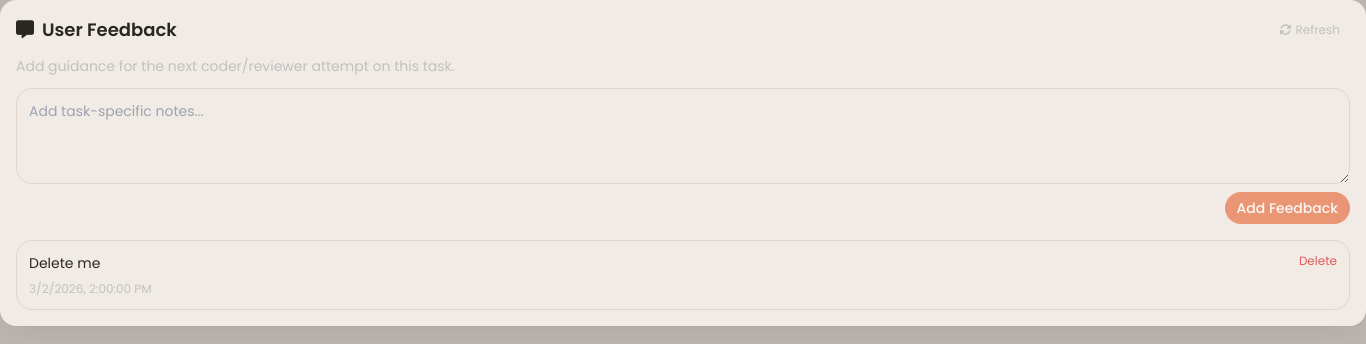
UserFeedbackPanel › deletes feedback items
Expected: the text "Delete me" is shown, [29,253,100,273]
Click the button "Delete".
click(1318, 261)  # box [1299,253,1337,269]
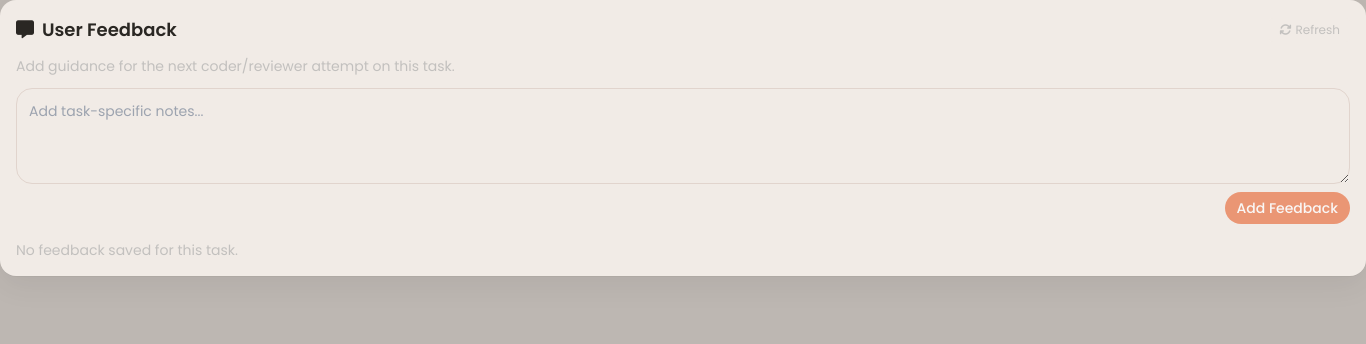
Now the text "Delete me" is gone
